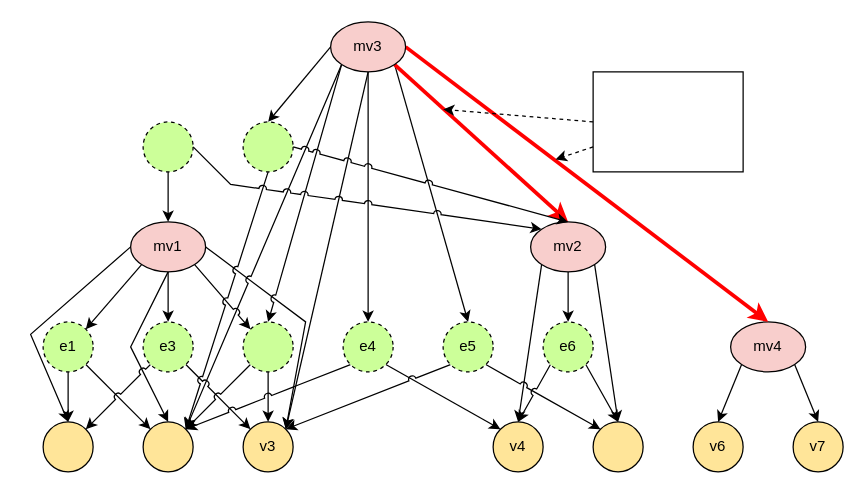
This 865x494 diagram has some shape labels left out. The shapes that lost their labels are listed below. From the top down, each one's box as (x1, y1, x2, y2) in pixels, then its label:
(592, 71, 743, 172): Вложенность метавершин в метавершину
(142, 121, 193, 172): e7
(242, 121, 293, 172): e8
(242, 321, 293, 372): e2
(42, 421, 93, 472): v1
(142, 421, 193, 472): v2
(592, 421, 643, 472): v5
